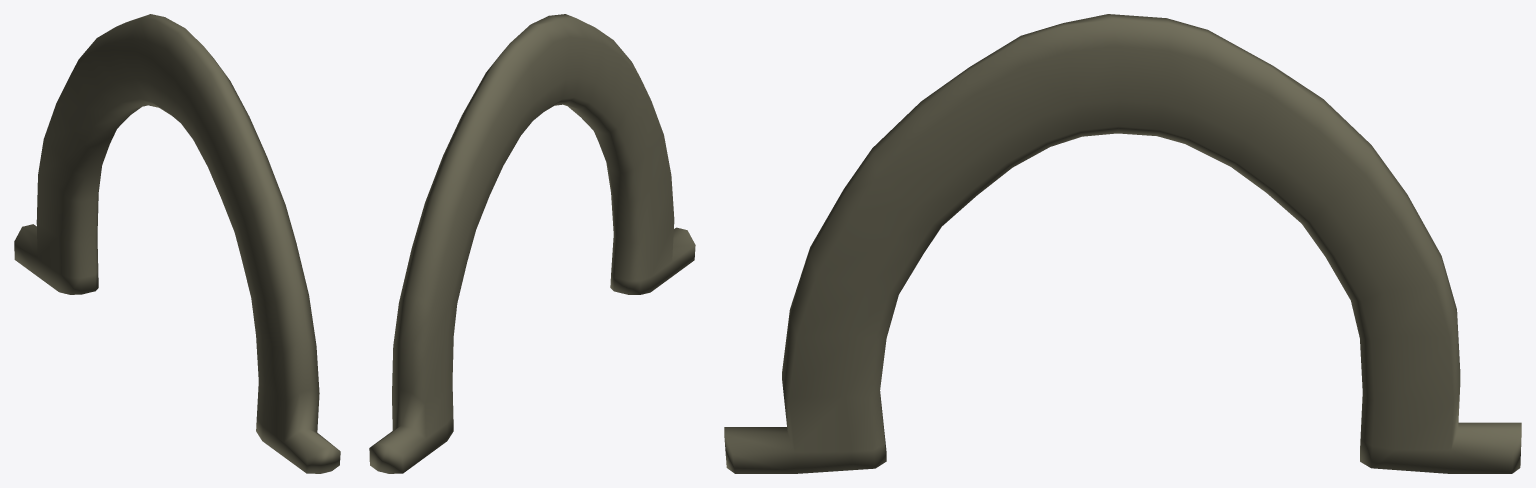
The model's file is boog.fbx.
The picture shows the model from 3 angles, left to right: view 1: azimuth 30°, elevation 25°; view 2: azimuth 150°, elevation 25°; view 3: azimuth 270°, elevation 25°; orthographic projection. The views are drawn at different scales.
Visible parts, largest first — view 1: pCube14; view 2: pCube14; view 3: pCube14.
Boxes of the visible parts, bbox=[...] form: pCube14: bbox=[14, 14, 340, 473]; pCube14: bbox=[369, 14, 695, 473]; pCube14: bbox=[724, 14, 1521, 473].
Size of the model in its own units: 81.06 by 779 by 1258.
